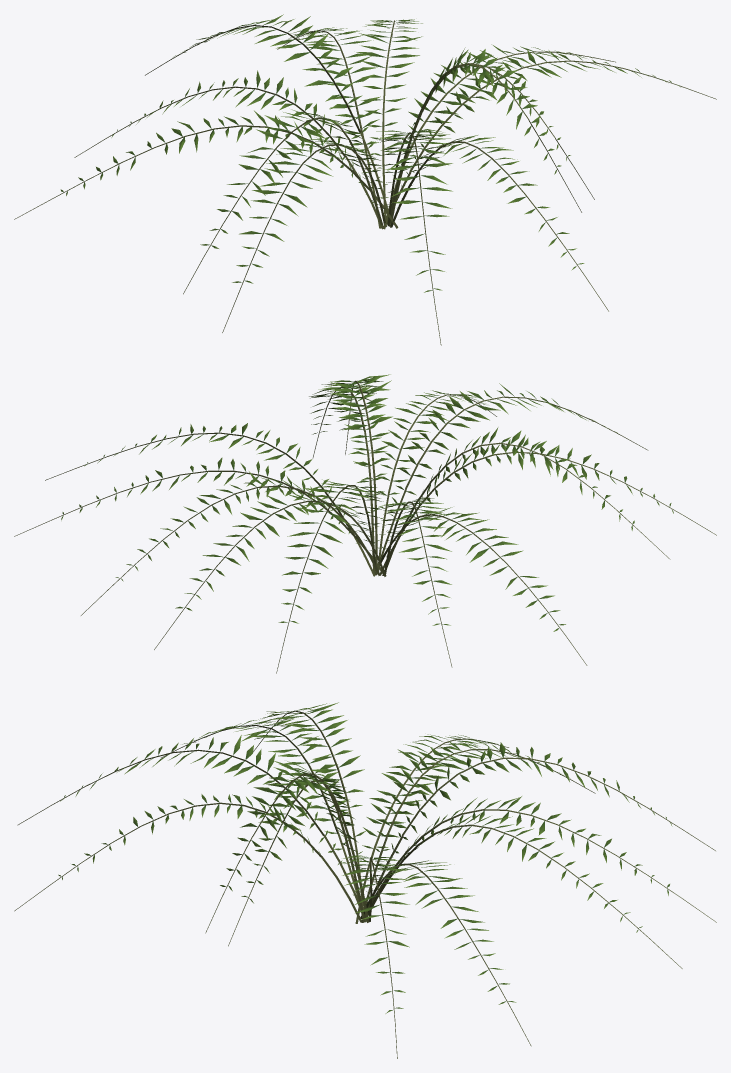
Rendered from forest_fern_002_b_LOD1.gltf.
3 views of the same model, one above another, from view 1: azimuth 30°, elevation 25°; view 2: azimuth 150°, elevation 25°; view 3: azimuth 270°, elevation 25° (orthographic). The views are drawn at different scales.
Visible parts, largest first — view 1: forest_fern_002_b_LOD1; view 2: forest_fern_002_b_LOD1; view 3: forest_fern_002_b_LOD1.
Part boxes in pixels (x1,y1,x2,y2): forest_fern_002_b_LOD1: [14, 14, 716, 345]; forest_fern_002_b_LOD1: [14, 374, 716, 673]; forest_fern_002_b_LOD1: [14, 702, 716, 1058].
Bounding box in the file's own units: 5.14 × 1.35 × 4.86.
1 material, 1 textured.
